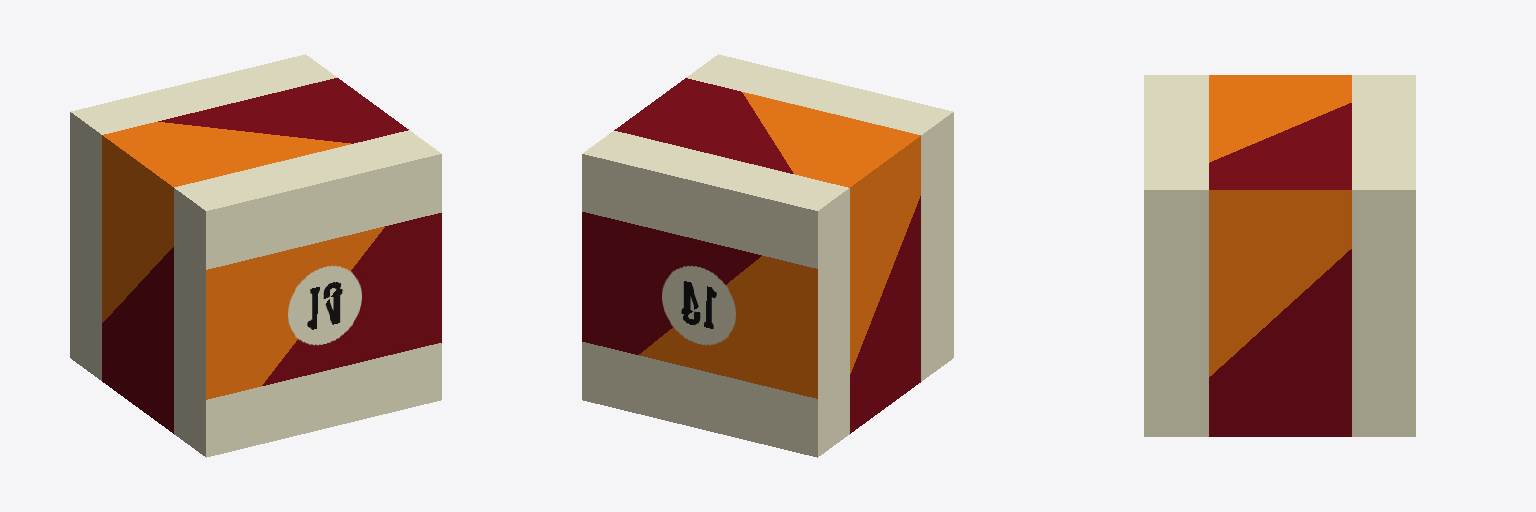
3 views of the same model, side by side, from view 1: azimuth 30°, elevation 25°; view 2: azimuth 150°, elevation 25°; view 3: azimuth 270°, elevation 25° (orthographic).
Visible parts, largest first — view 1: 1; view 2: 1; view 3: 1.
Part boxes in pixels (bbox=[...]): 1: bbox=[70, 54, 441, 457]; 1: bbox=[582, 54, 953, 457]; 1: bbox=[1144, 75, 1415, 436].
Bounding box in the file's own units: 20 × 20 × 20.
Materials: 2 (2 with a texture image).